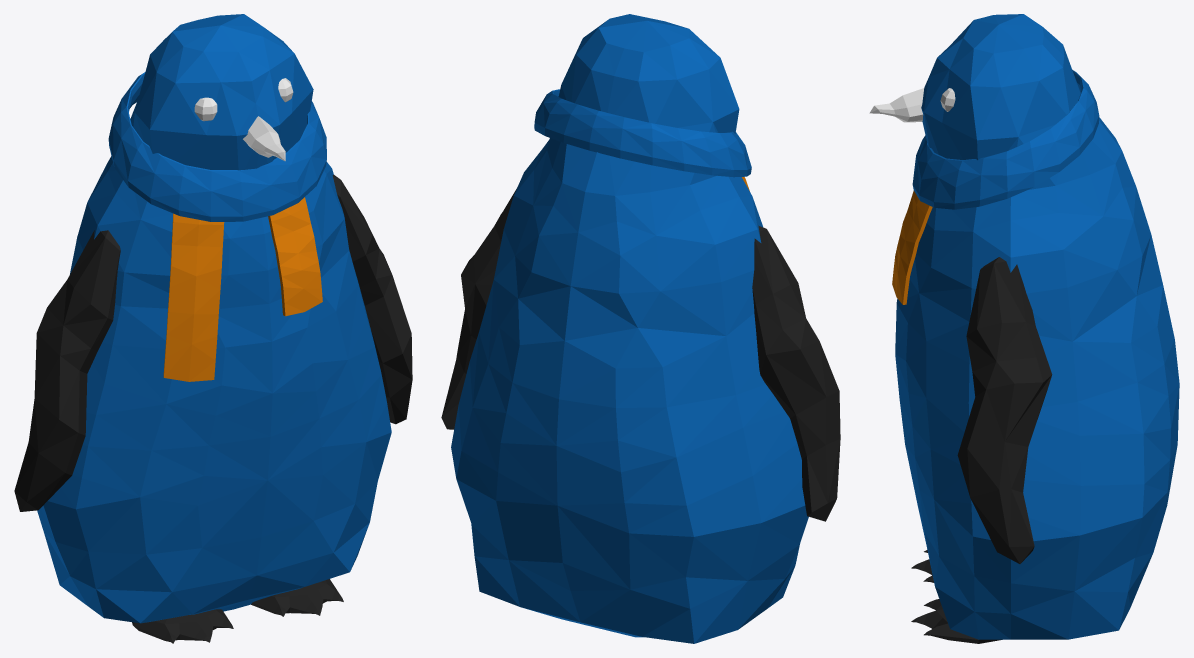
File: snow_penguin_blue.fbx
3 renders of one model, left to right at view 1: azimuth 30°, elevation 25°; view 2: azimuth 150°, elevation 25°; view 3: azimuth 270°, elevation 25°, orthographic.
Visible parts, largest first — view 1: Sphere.002; view 2: Sphere.002; view 3: Sphere.002.
Boxes of the visible parts, left/top/right/bottom form: Sphere.002: left=14, top=14, right=412, bottom=643; Sphere.002: left=441, top=14, right=840, bottom=643; Sphere.002: left=869, top=14, right=1179, bottom=643.
Bounding box in the file's own units: 661 × 950 × 459.
